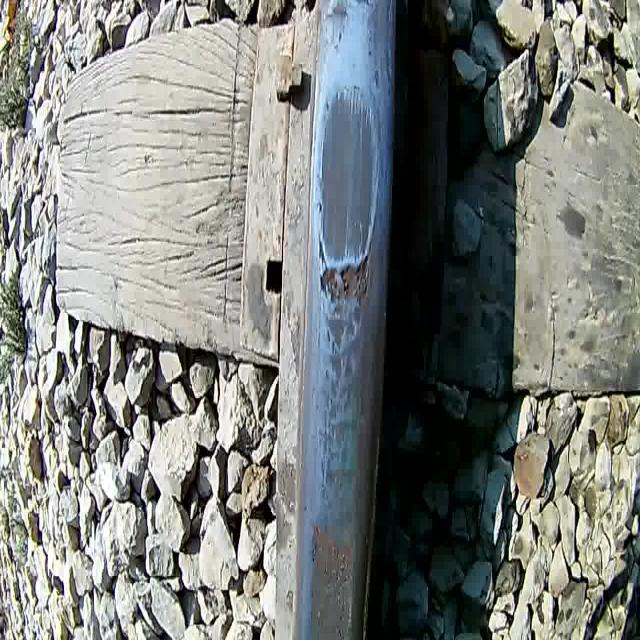Spallings: (303, 515, 356, 640), (306, 236, 380, 309)
Squats: (311, 81, 384, 274), (312, 298, 369, 506)
